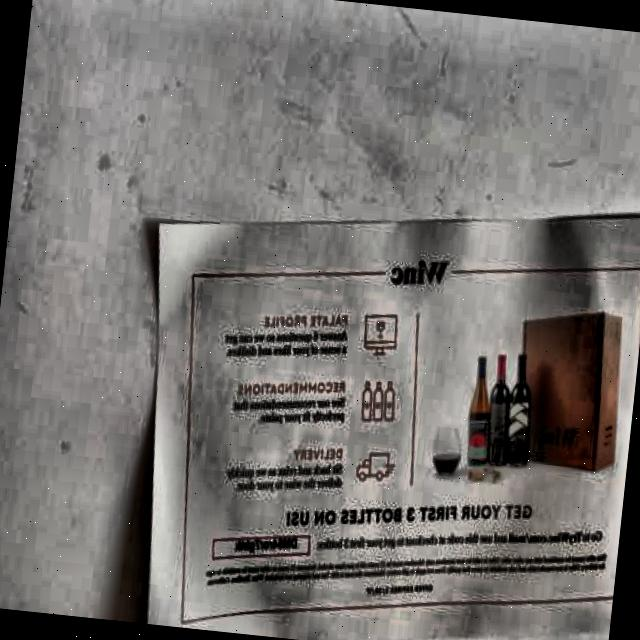paper: (120, 183, 634, 640)
